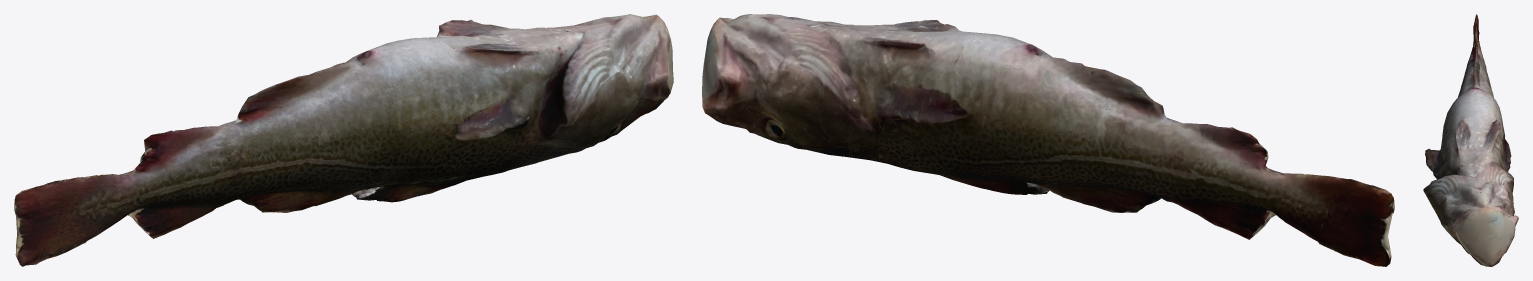
Rendered from fish-cod.glb.
The picture shows the model from 3 angles, left to right: view 1: azimuth 30°, elevation 25°; view 2: azimuth 150°, elevation 25°; view 3: azimuth 270°, elevation 25°; orthographic projection. The views are drawn at different scales.
Parts seen in each view (by area): view 1: Artec actual fish scan; view 2: Artec actual fish scan; view 3: Artec actual fish scan.
Part boxes in pixels (x1,y1,x2,y2): Artec actual fish scan: (14, 14, 673, 266); Artec actual fish scan: (702, 14, 1394, 266); Artec actual fish scan: (1423, 14, 1518, 266).
Bounding box in the file's own units: 1.16 × 0.2578 × 0.2242.
1 material, 1 textured.
